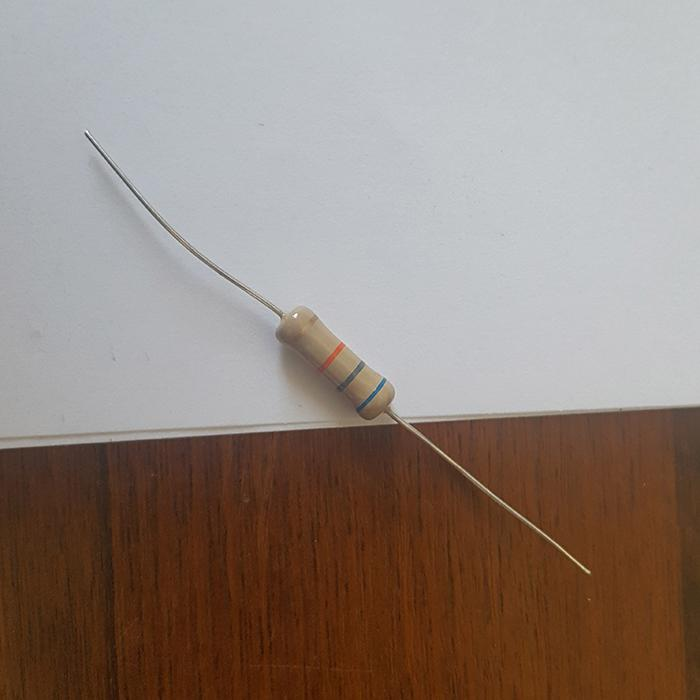resistor: (274, 305, 393, 418)
